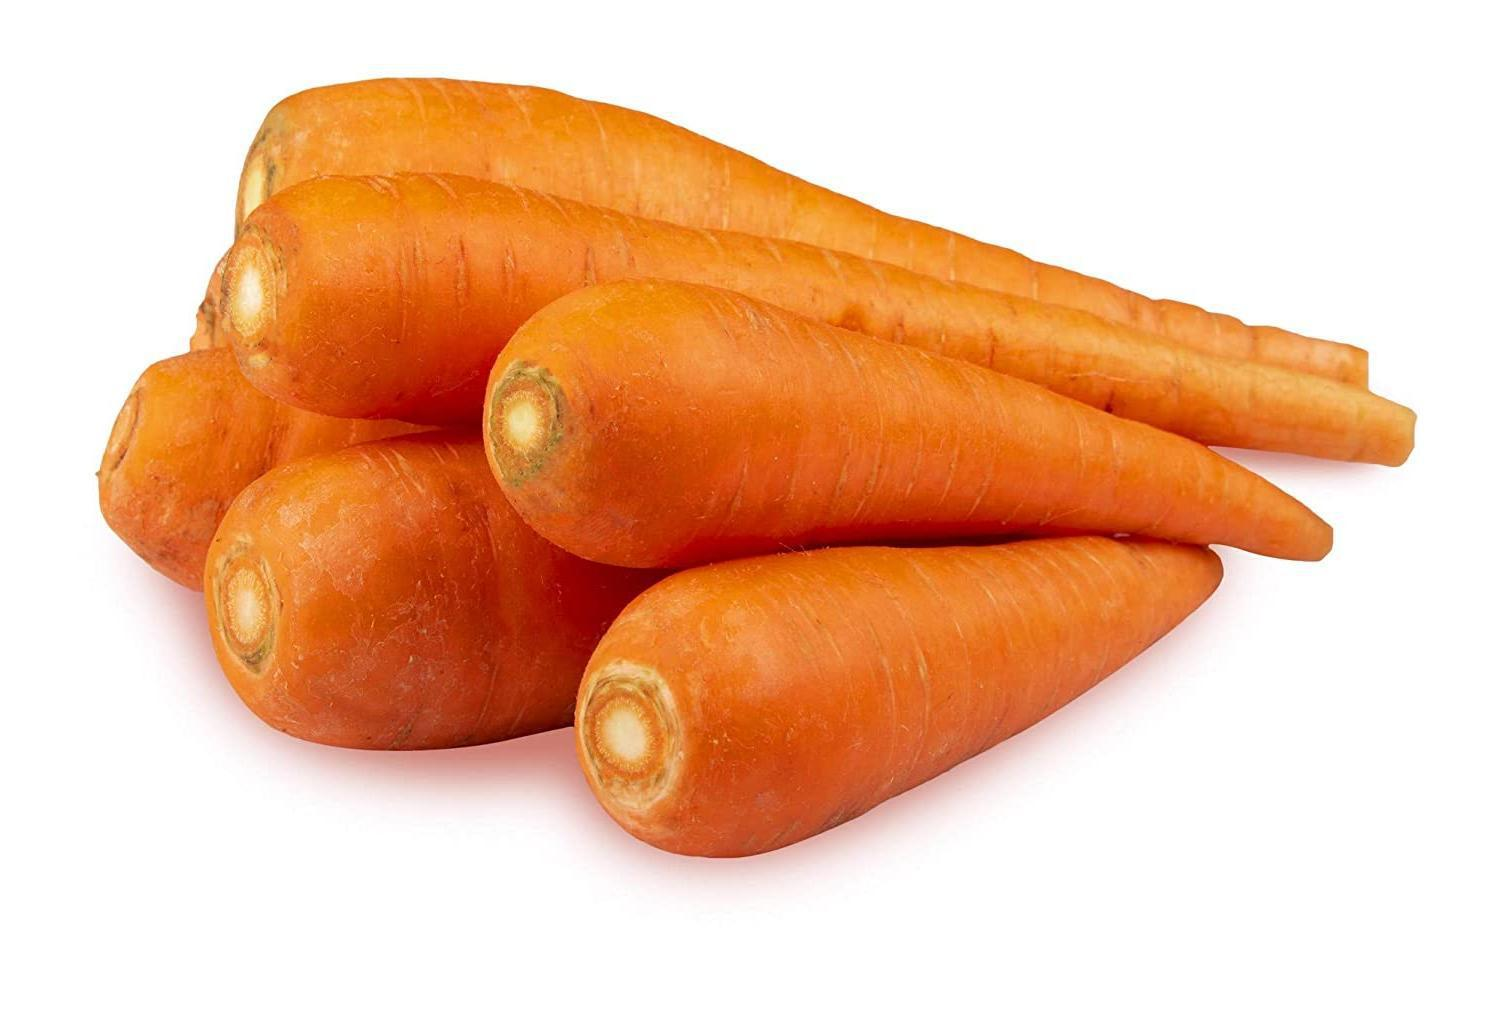carrot: (82, 59, 1474, 868), (191, 178, 1422, 807), (471, 247, 1360, 667), (584, 502, 1216, 841)
